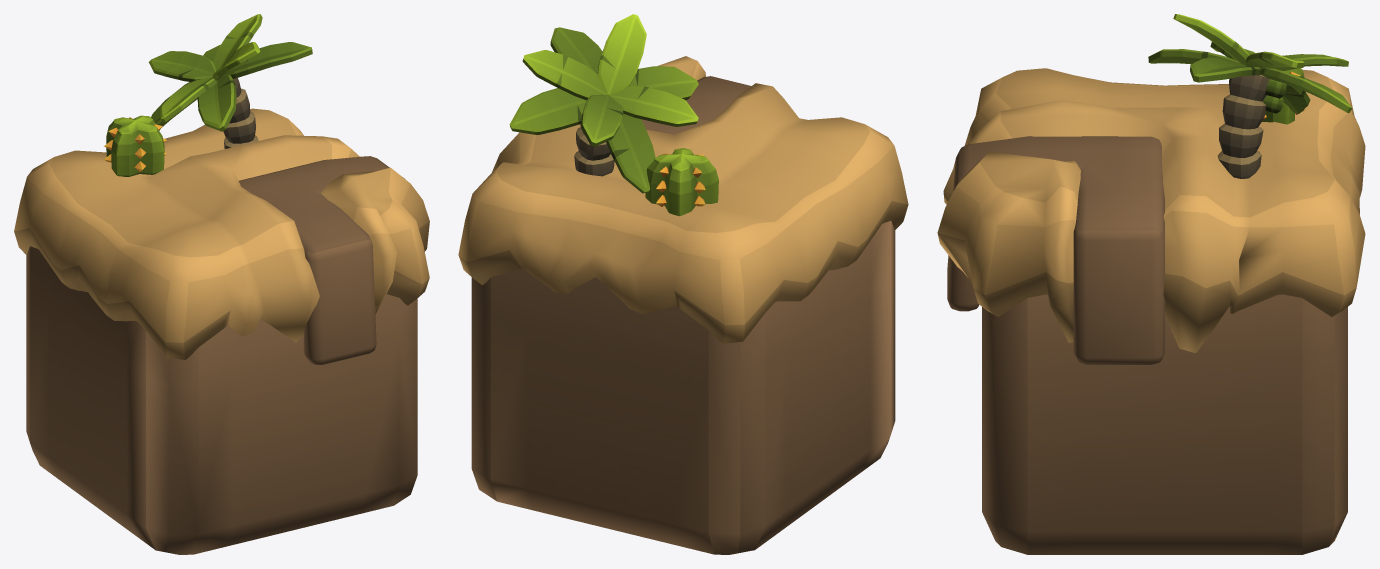
The model's file is Desert12.fbx.
3 views of the same model, side by side, from view 1: azimuth 30°, elevation 25°; view 2: azimuth 150°, elevation 25°; view 3: azimuth 270°, elevation 25° (orthographic). The views are drawn at different scales.
Parts seen in each view (by area): view 1: Desert12, Winter_Cube12.001, Road12.003, Desert_Cube_12.002; view 2: Desert12, Winter_Cube12.001, Desert_Cube_12.002, Road12.003; view 3: Desert12, Winter_Cube12.001, Road12.003, Desert_Cube_12.002.
Boxes of the visible parts, x1=… form: Desert12: x1=26, y1=246, x2=417, y2=554; Winter_Cube12.001: x1=14, y1=108, x2=429, y2=359; Road12.003: x1=238, y1=156, x2=404, y2=365; Desert_Cube_12.002: x1=104, y1=14, x2=312, y2=176; Desert12: x1=471, y1=221, x2=895, y2=554; Winter_Cube12.001: x1=458, y1=56, x2=908, y2=343; Desert_Cube_12.002: x1=509, y1=14, x2=718, y2=216; Road12.003: x1=641, y1=76, x2=751, y2=134; Desert12: x1=982, y1=294, x2=1347, y2=554; Winter_Cube12.001: x1=937, y1=68, x2=1365, y2=352; Road12.003: x1=947, y1=136, x2=1164, y2=364; Desert_Cube_12.002: x1=1148, y1=14, x2=1352, y2=178.
Bounding box in the file's own units: 114 × 152 × 117.
